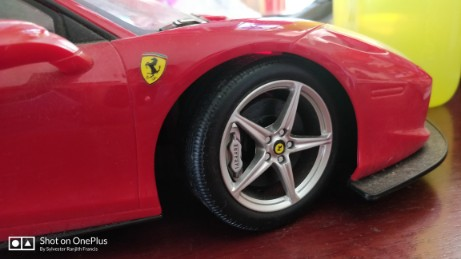unaligned_wheel: (177, 57, 346, 232)
